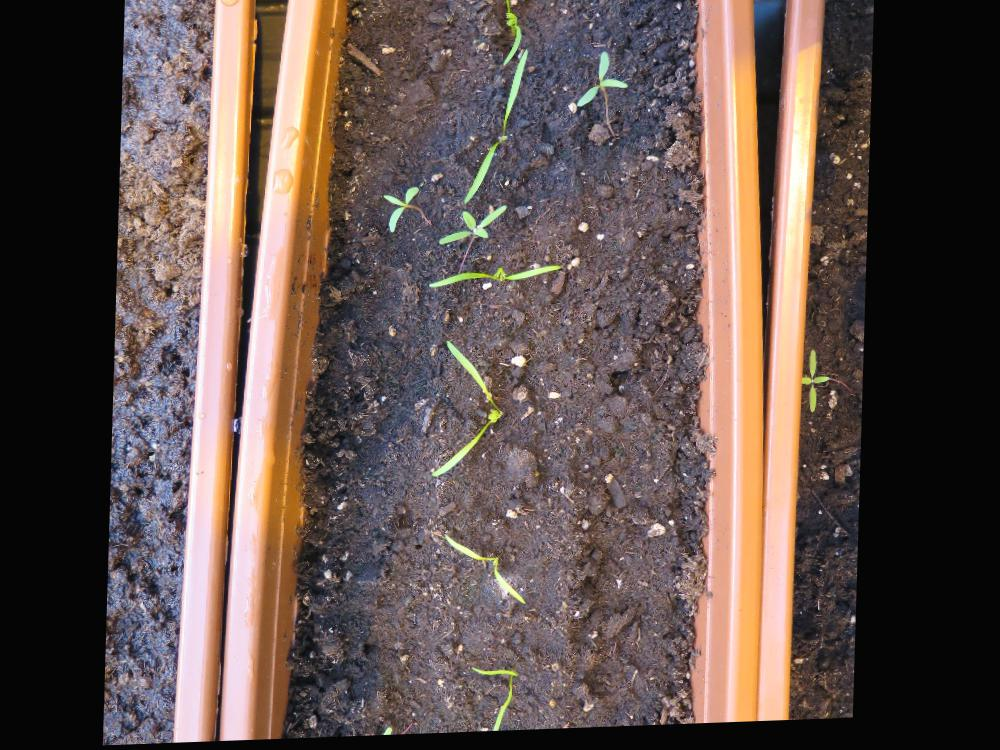crop: (432, 341, 513, 482), (442, 535, 532, 613), (471, 669, 524, 735), (427, 268, 565, 292)
weed: (575, 55, 629, 112), (439, 209, 508, 249), (800, 353, 835, 422), (377, 191, 420, 239)
